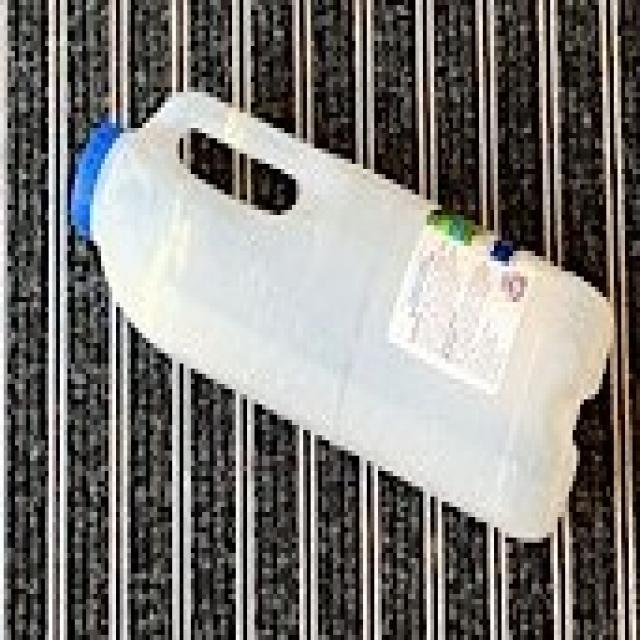HDPE Plastic: (66, 86, 615, 546)
